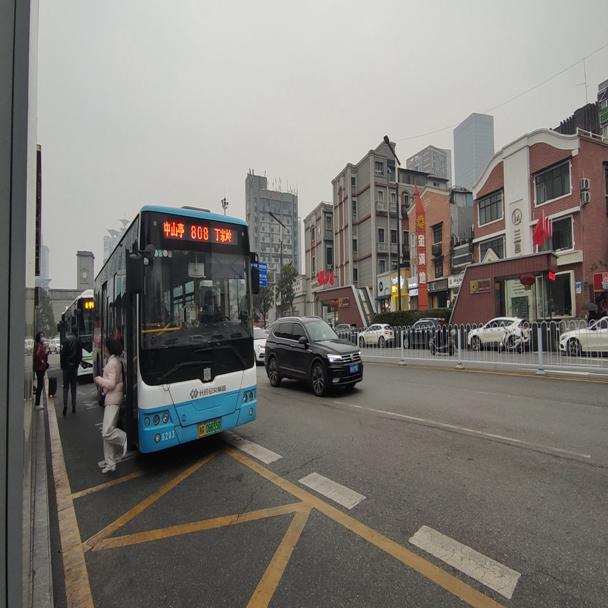bus: (91, 202, 261, 454), (58, 285, 94, 378)
screen: (187, 220, 213, 239)
